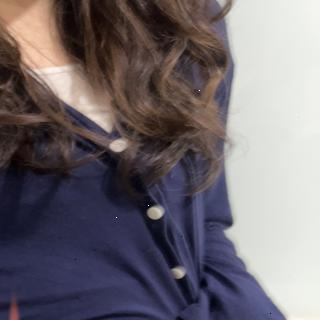fire: (6, 294, 20, 320)
